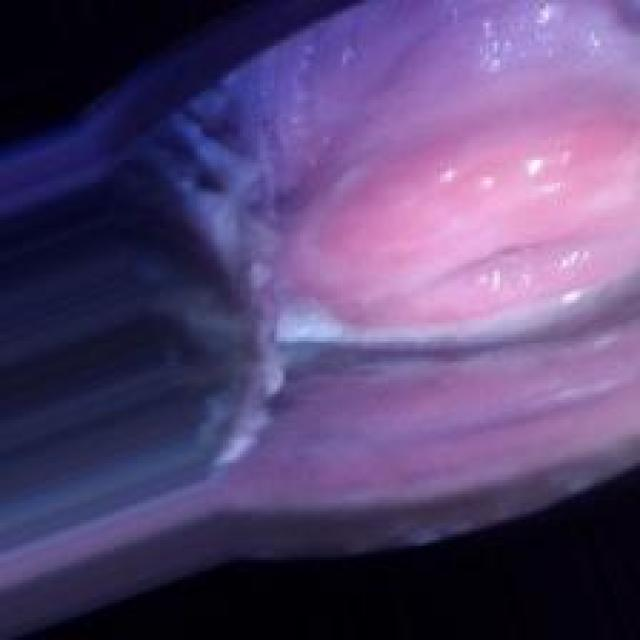type-3: (102, 39, 640, 514)
